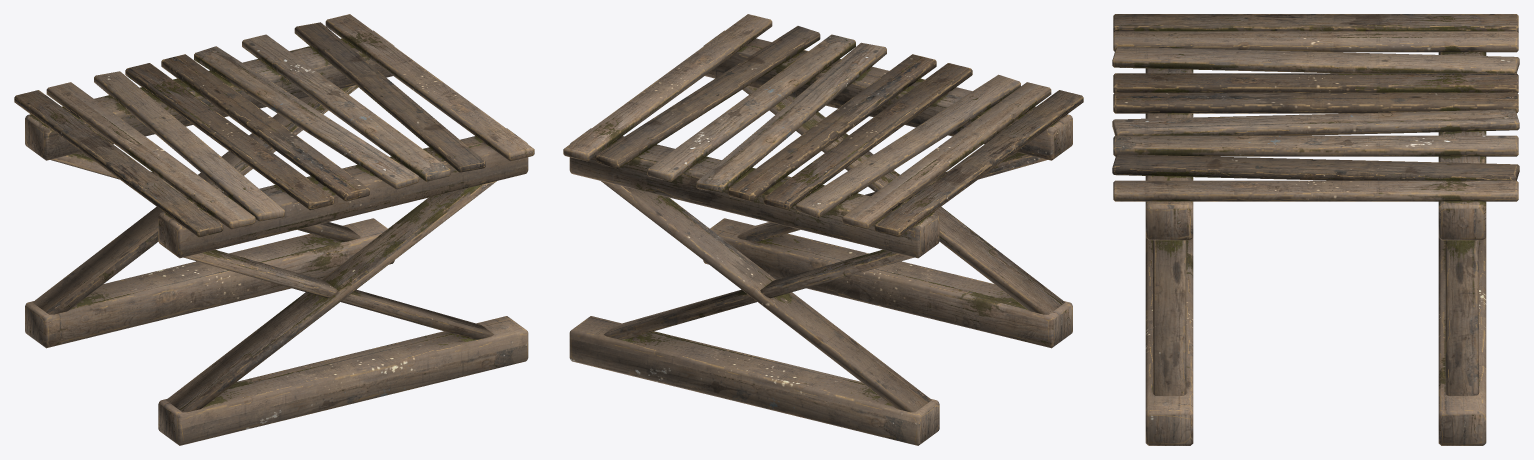
The model's file is SM_Prop_Wood_Bridge_A.fbx.
The picture shows the model from 3 angles, left to right: view 1: azimuth 30°, elevation 25°; view 2: azimuth 150°, elevation 25°; view 3: azimuth 270°, elevation 25°; orthographic projection. The views are drawn at different scales.
Visible parts, largest first — view 1: SM_Prop_Wood_Bridge_A_LOD0; view 2: SM_Prop_Wood_Bridge_A_LOD0; view 3: SM_Prop_Wood_Bridge_A_LOD0.
Boxes of the visible parts, x1=… form: SM_Prop_Wood_Bridge_A_LOD0: x1=14, y1=14, x2=534, y2=445; SM_Prop_Wood_Bridge_A_LOD0: x1=563, y1=14, x2=1083, y2=445; SM_Prop_Wood_Bridge_A_LOD0: x1=1112, y1=14, x2=1519, y2=445.
Bounding box in the file's own units: 400 × 367 × 247.
1 material, 1 textured.
